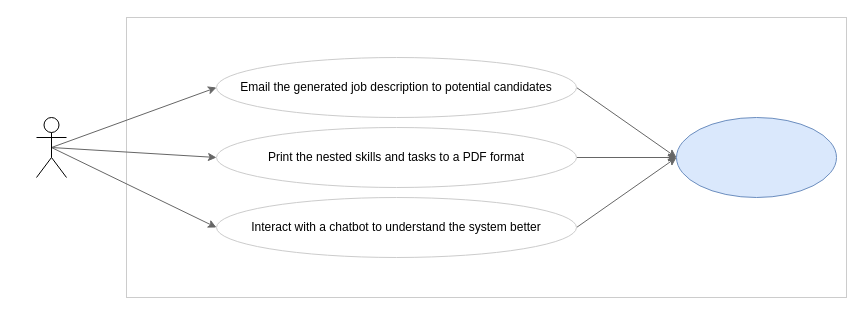
Some shapes in this 864 by 315 pixel diagram are drawn without their labels. Here are the shapes that lost their labels. From the top down, the centre of each, then its label:
pixel 51 147: HR Manager
pixel 756 157: Authenticate
